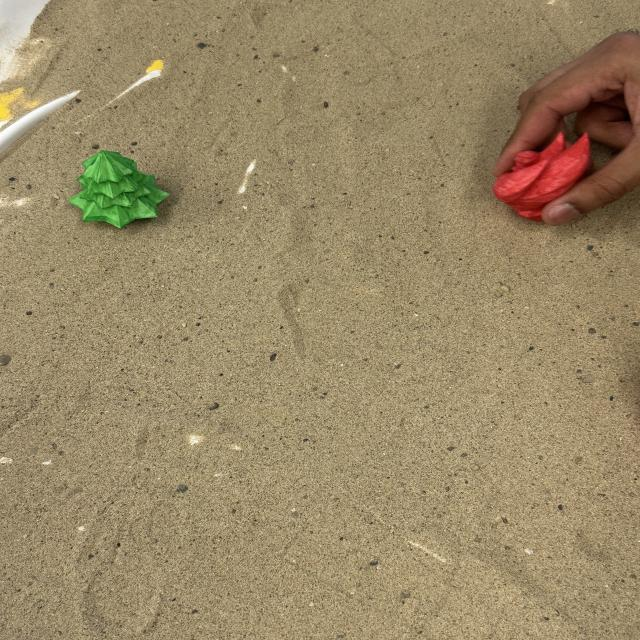fire: (492, 129, 594, 222)
tree: (66, 148, 170, 230)
